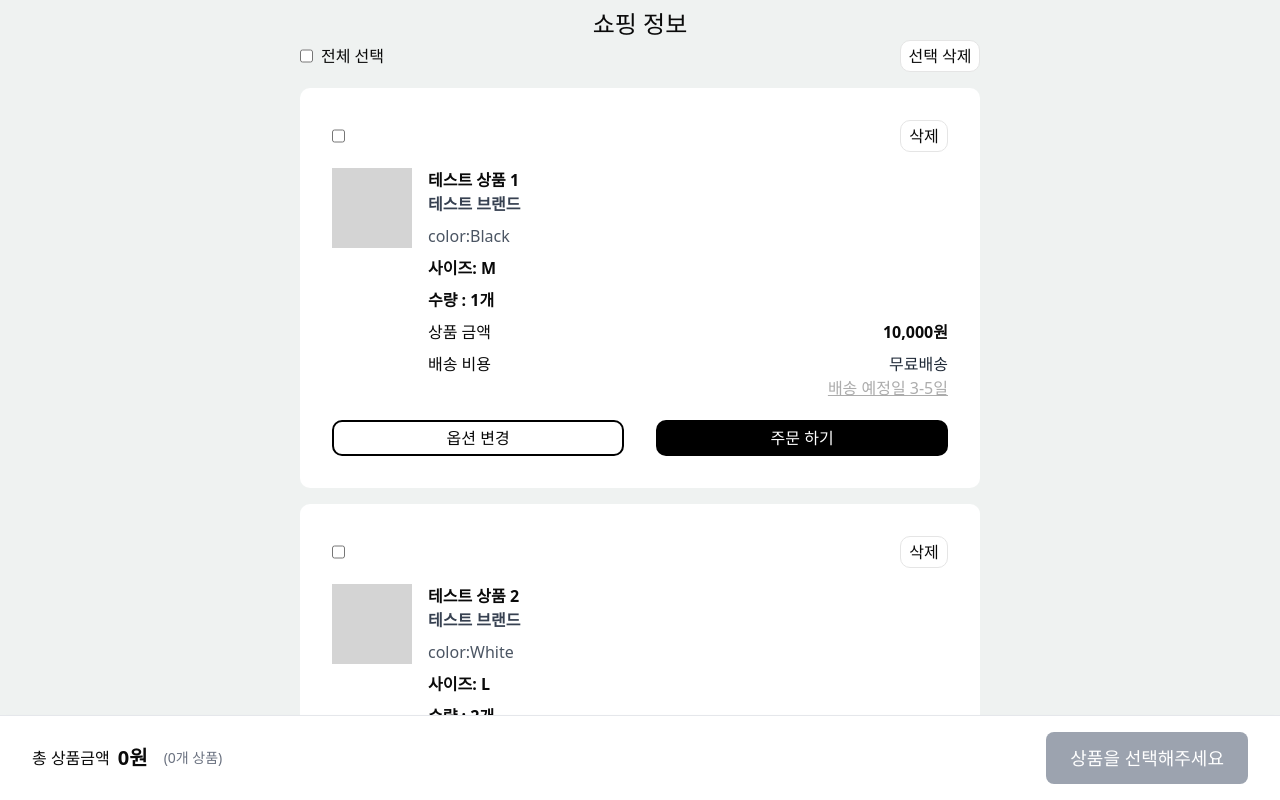
Test: 장바구니 사용자 흐름 › 개별 상품 선택과 해제에 따라 주문 금액을 다시 계산한다
The image size is (1280, 800).
expect the text "테스트 상품 1" is shown: met, box left=428, top=169, right=519, bottom=191
Click the 2nd checkbox at coordinates (338, 136), box left=332, top=120, right=345, bottom=152
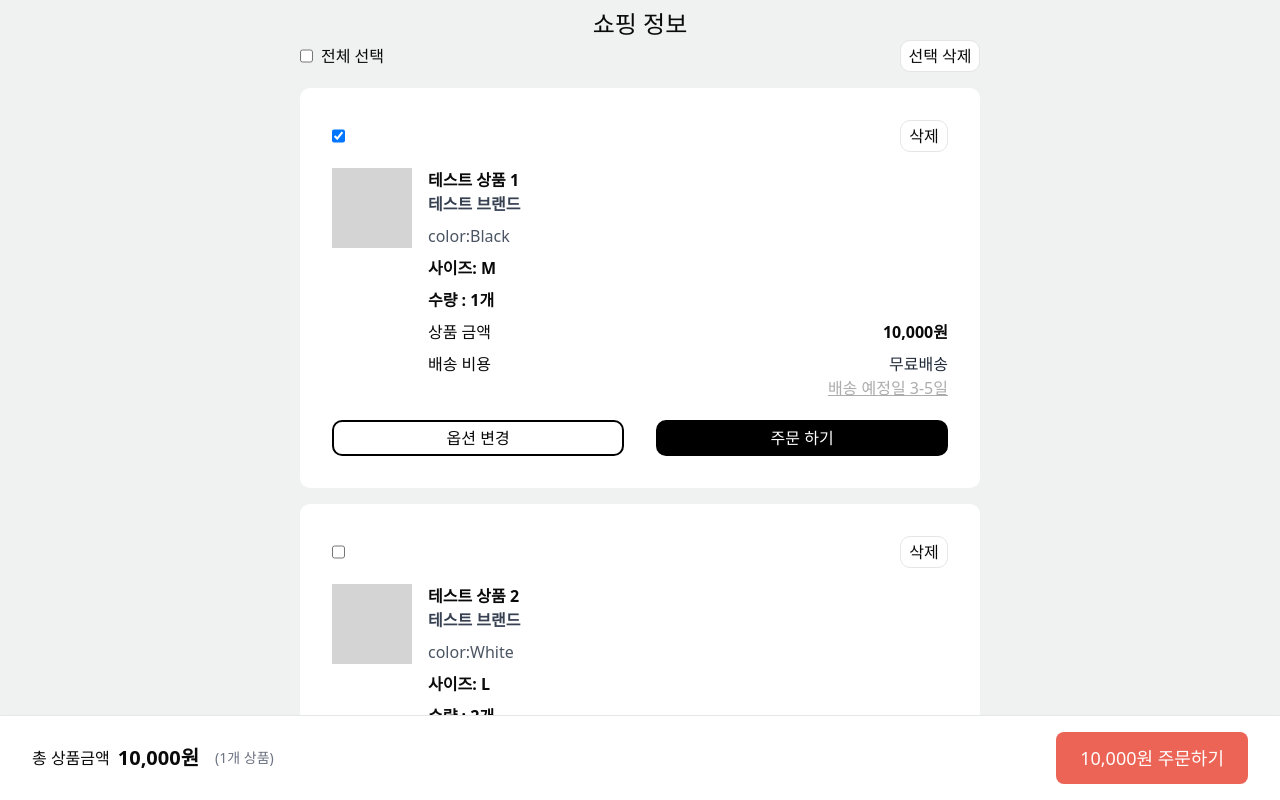
expect the button "10,000원 주문하기" is enabled: met, box left=1056, top=732, right=1248, bottom=784
Click the 2nd checkbox at coordinates (338, 136), box left=332, top=120, right=345, bottom=152
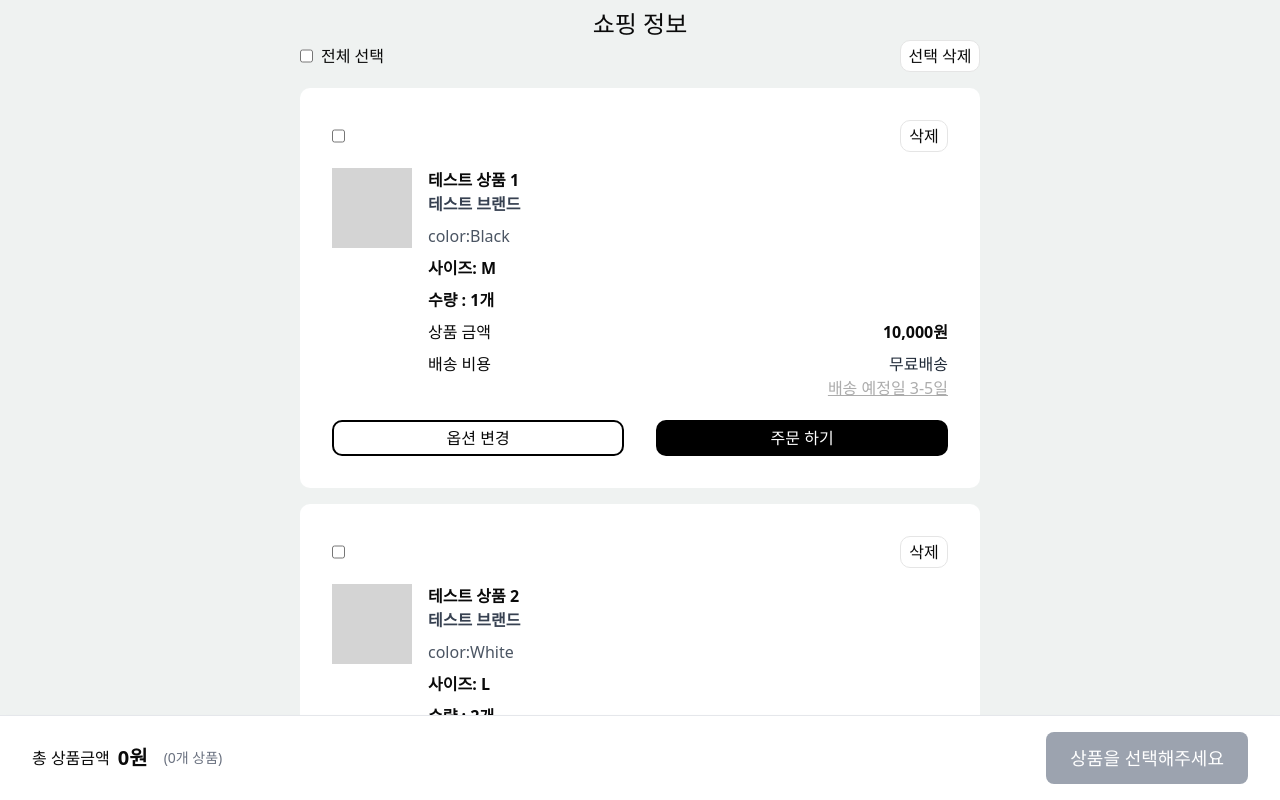
expect the button "상품을 선택해주세요" is disabled: met, box left=1046, top=732, right=1248, bottom=784
